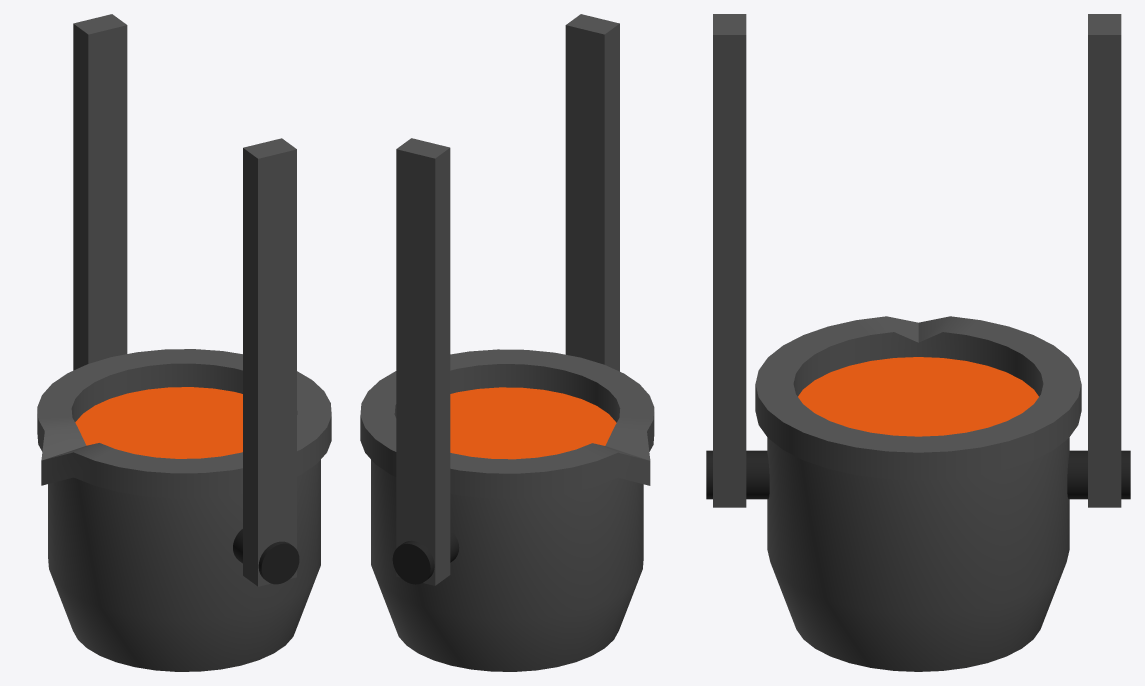
Rendered from liteo_scene_model_1.gltf.
The picture shows the model from 3 angles, left to right: view 1: azimuth 30°, elevation 25°; view 2: azimuth 150°, elevation 25°; view 3: azimuth 270°, elevation 25°; orthographic projection. The views are drawn at different scales.
Parts seen in each view (by area): view 1: Цилиндр, Куб.001, Куб, Цилиндр.001; view 2: Цилиндр, Куб, Куб.001, Цилиндр.001; view 3: Цилиндр, Куб, Куб.001, Цилиндр.001.
Boxes of the visible parts, <box> form: Цилиндр: <box>37,349,331,671</box>; Куб.001: <box>243,138,296,586</box>; Куб: <box>73,14,127,370</box>; Цилиндр.001: <box>233,529,299,584</box>; Цилиндр: <box>360,349,654,671</box>; Куб: <box>396,138,450,585</box>; Куб.001: <box>565,14,619,371</box>; Цилиндр.001: <box>392,530,459,584</box>; Цилиндр: <box>755,316,1081,671</box>; Куб: <box>1088,14,1121,507</box>; Куб.001: <box>713,14,746,507</box>; Цилиндр.001: <box>706,450,1130,499</box>.
Size of the model in its own units: 15.31 by 26.43 by 17.07.
